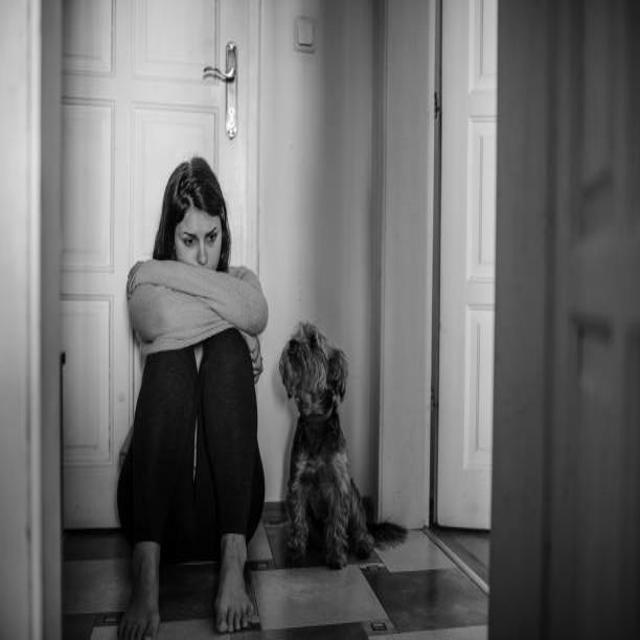Sadness: (173, 206, 224, 274)
